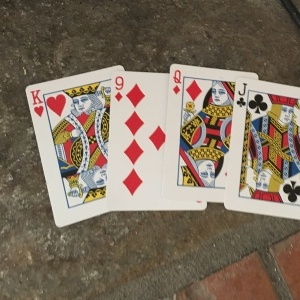card: (24, 75, 111, 225), (166, 61, 231, 204), (111, 67, 172, 210)
